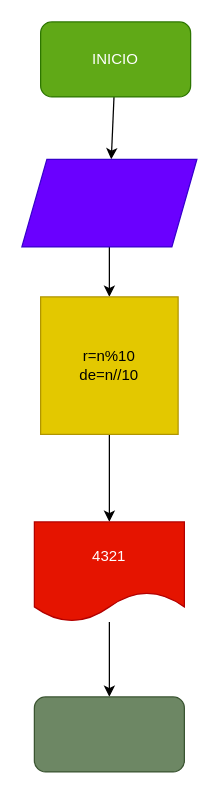
The diagram is 219 pixels wide and 794 high, and some of its shapes have lost their labels. Each missing label, with the box of its shape:
FIN: (33, 696, 184, 772)
n=1234: (21, 158, 197, 247)
